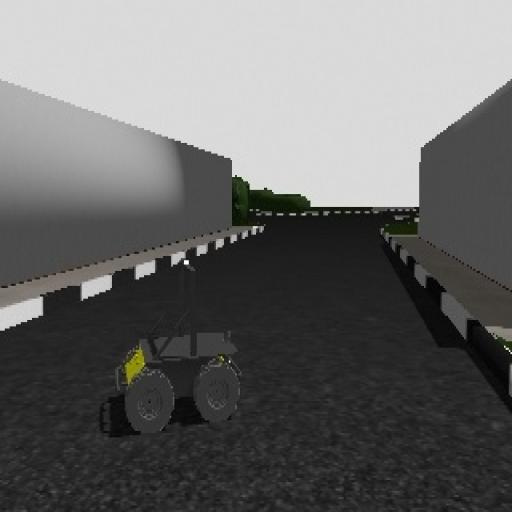huskya200: (108, 261, 251, 440)
